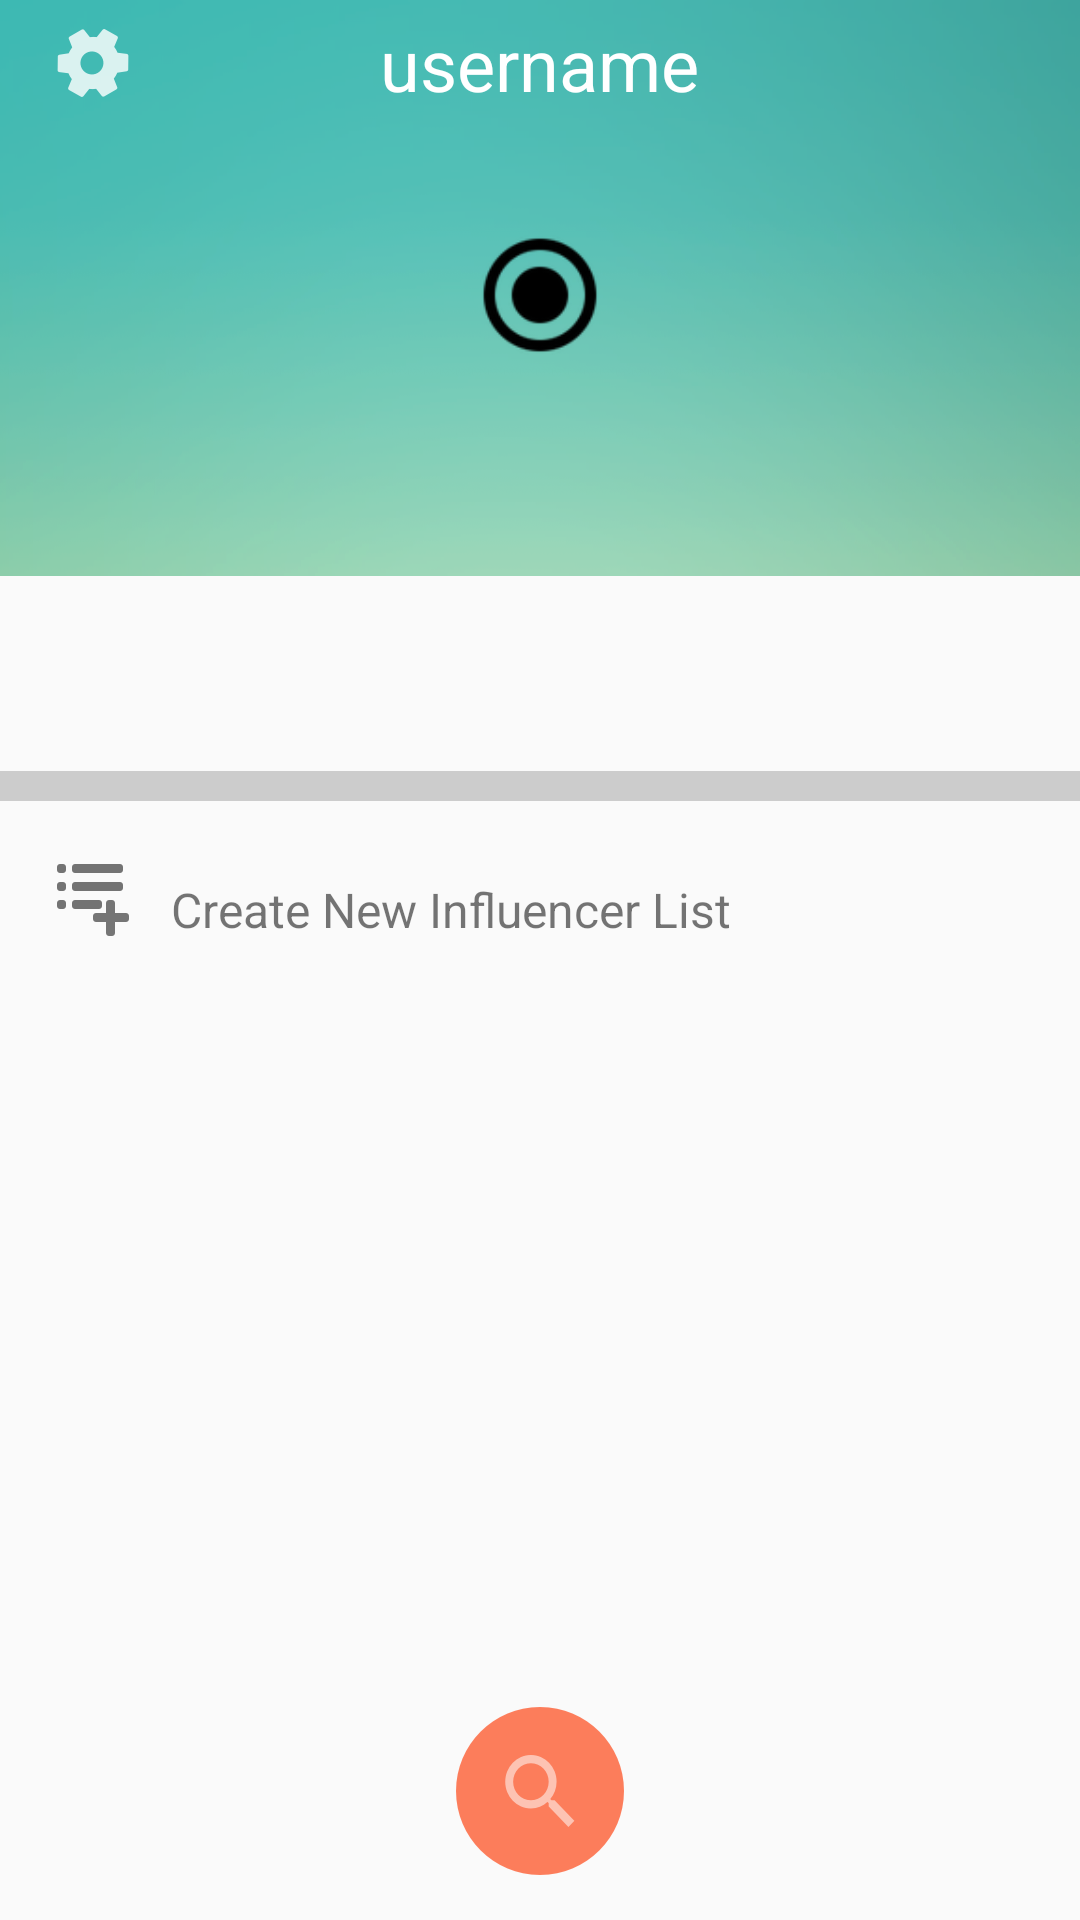

Icons on this 1080 x 1920 Android screen, each with its box as (x1, y1, x2, y2):
setting: (57, 29, 129, 97)
